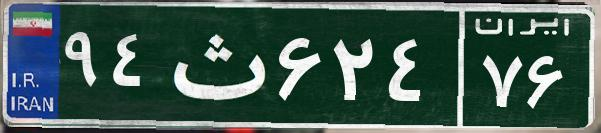2: (330, 28, 385, 110)
4: (385, 28, 445, 110), (110, 28, 158, 105)
6: (273, 28, 330, 110), (525, 38, 570, 115)
7: (475, 38, 525, 113)
9: (57, 26, 110, 107)
ث: (158, 15, 273, 115)
